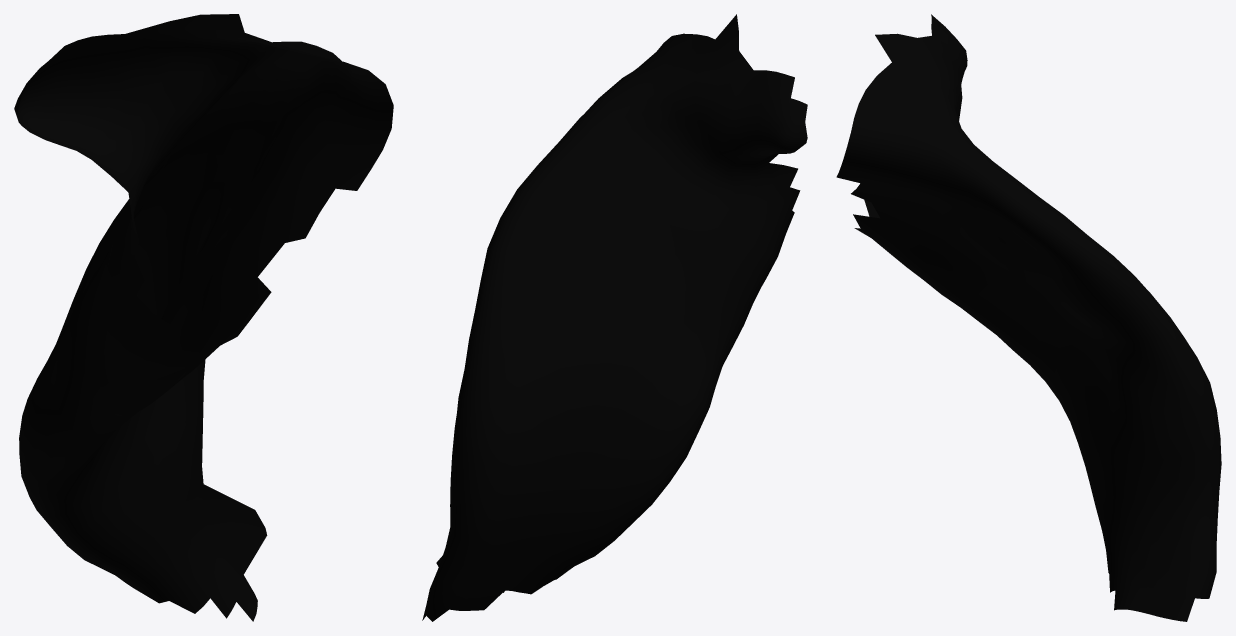
Rendered from Pie2B.obj.
3 renders of one model, left to right at view 1: azimuth 30°, elevation 25°; view 2: azimuth 150°, elevation 25°; view 3: azimuth 270°, elevation 25°, orthographic. The views are drawn at different scales.
Parts seen in each view (by area): view 1: Pie2B; view 2: Pie2B; view 3: Pie2B.
Part boxes in pixels (box(x1,y1,x2,y2)): Pie2B: box(14, 14, 393, 621); Pie2B: box(422, 14, 807, 621); Pie2B: box(836, 14, 1221, 621).
Size of the model in its own units: 0.3665 by 0.6886 by 0.4679.
1 material, 1 textured.
